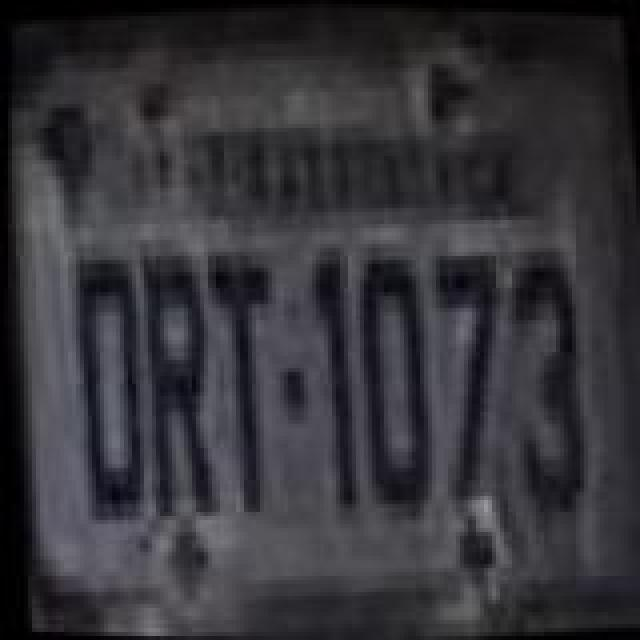1: (292, 234, 376, 522)
3: (488, 240, 604, 528)
7: (422, 240, 518, 512)
D: (54, 248, 158, 520)
O: (338, 242, 442, 518)
R: (122, 246, 226, 526)
T: (190, 240, 294, 528)
